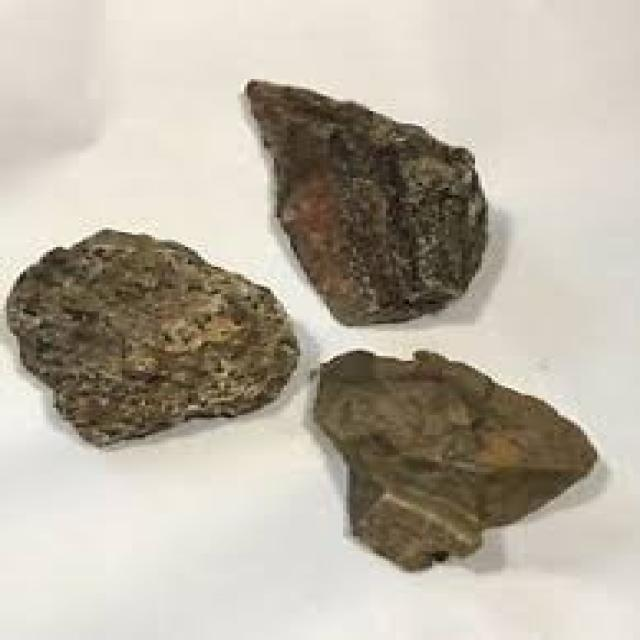Metamorphic: (231, 62, 521, 324), (3, 210, 300, 460), (307, 334, 604, 583)
